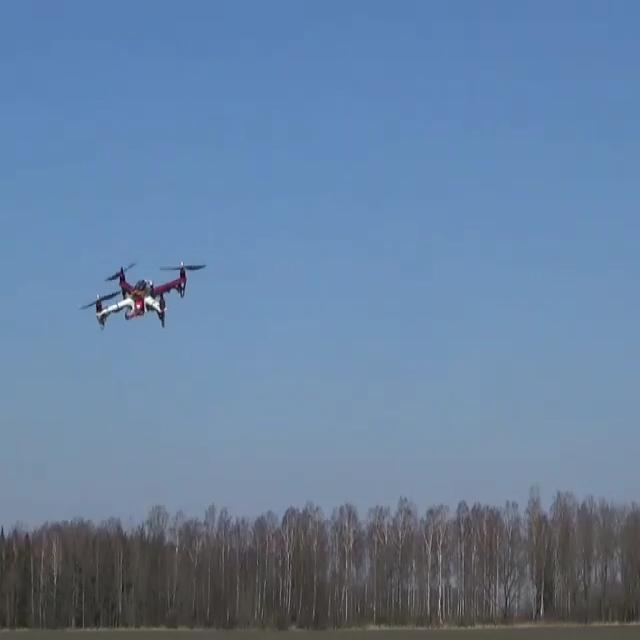Drone: (81, 231, 209, 354)
